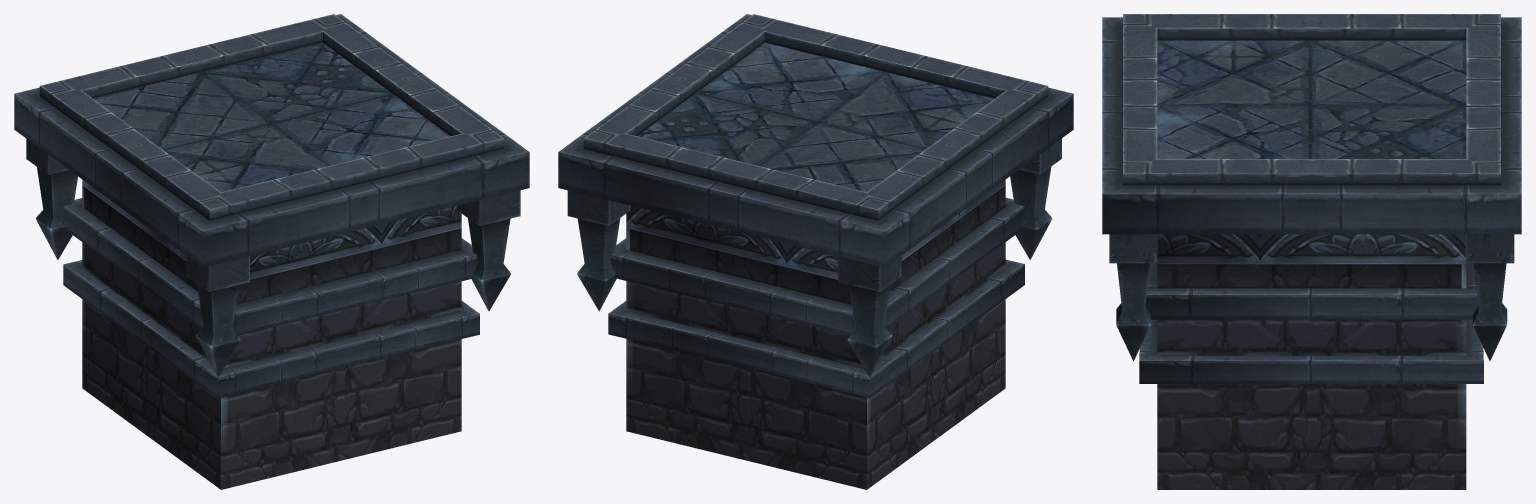
The model's file is Ice_platform10.FBX.
3 views of the same model, side by side, from view 1: azimuth 30°, elevation 25°; view 2: azimuth 150°, elevation 25°; view 3: azimuth 270°, elevation 25° (orthographic). The views are drawn at different scales.
Parts seen in each view (by area): view 1: Object15872; view 2: Object15872; view 3: Object15872.
Boxes of the visible parts, x1,y1,x2,y2 form: Object15872: (14,14,529,489); Object15872: (558,14,1073,489); Object15872: (1102,14,1521,489).
Size of the model in its own units: 617 by 537 by 617.
